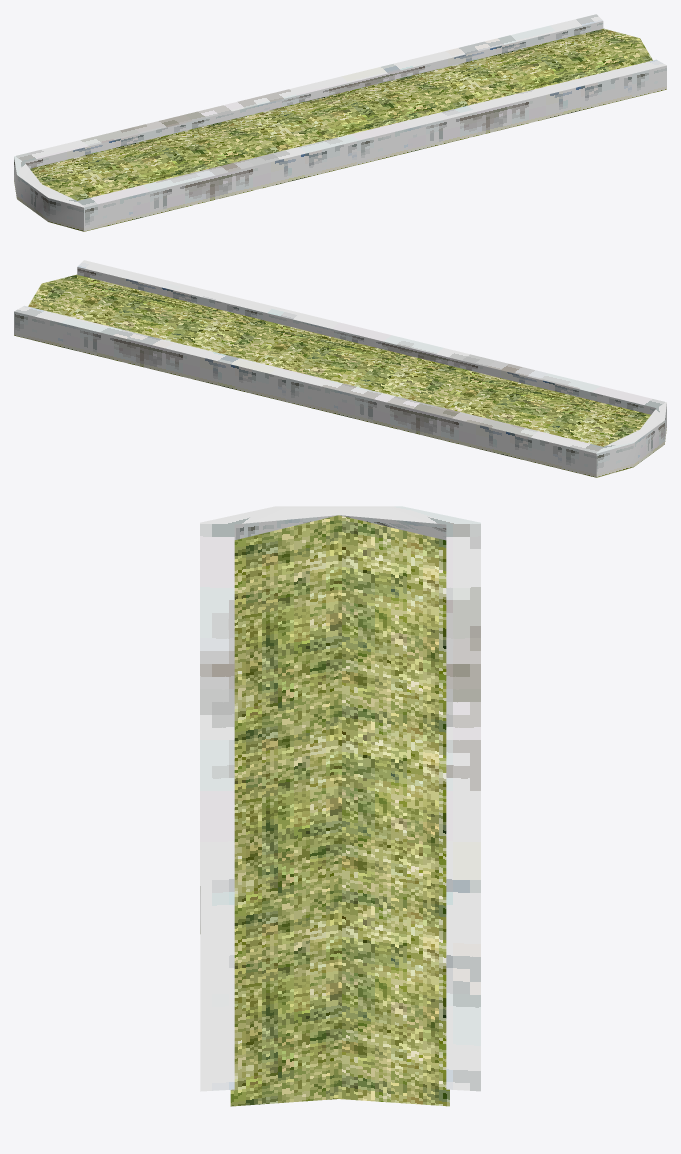
File: Environment - Prop - Mdn GRS 01 - PMMdnGRS01_E.glb
The picture shows the model from 3 angles, top to bottom: view 1: azimuth 30°, elevation 25°; view 2: azimuth 150°, elevation 25°; view 3: azimuth 270°, elevation 25°; orthographic projection. The views are drawn at different scales.
Visible parts, largest first — view 1: PMMDNGRS01_E; view 2: PMMDNGRS01_E; view 3: PMMDNGRS01_E.
Boxes of the visible parts, bbox=[...] form: PMMDNGRS01_E: bbox=[14, 14, 666, 231]; PMMDNGRS01_E: bbox=[14, 260, 666, 477]; PMMDNGRS01_E: bbox=[200, 506, 480, 1106].
Size of the model in its own units: 62.93 by 2.39 by 12.6.
1 material, 1 textured.
